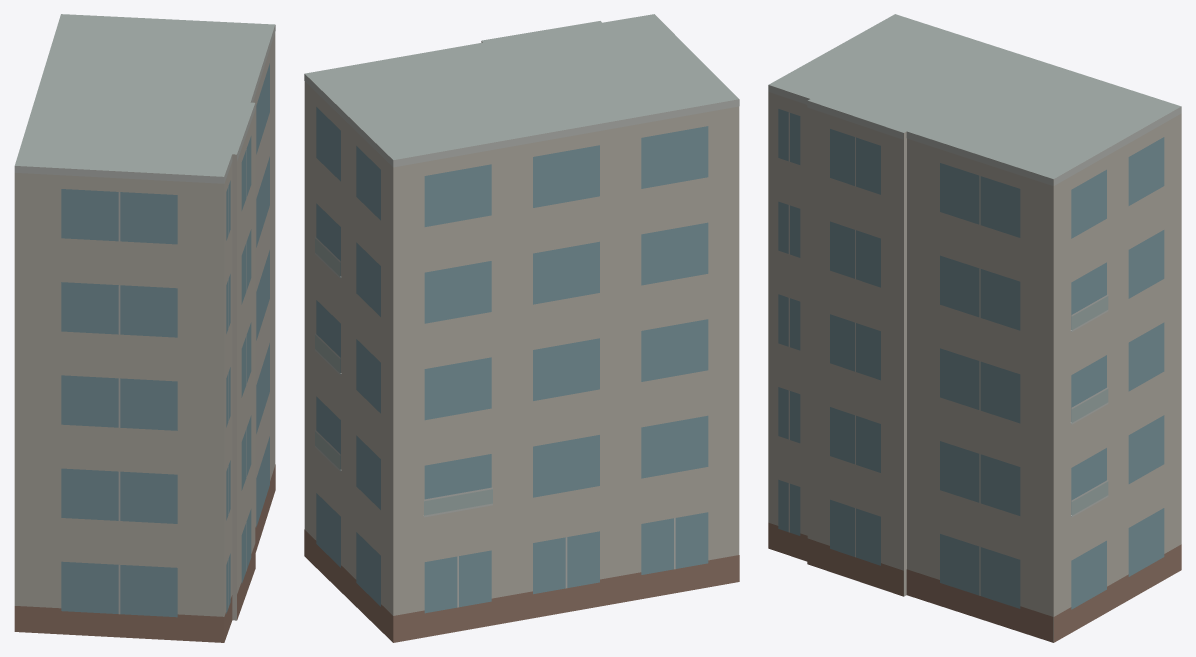
File: survey-upis-32732314.glb
3 views of the same model, side by side, from view 1: azimuth 30°, elevation 25°; view 2: azimuth 150°, elevation 25°; view 3: azimuth 270°, elevation 25° (orthographic). The views are drawn at different scales.
Parts seen in each view (by area): view 1: survey-upis-32732314.tmp; view 2: survey-upis-32732314.tmp; view 3: survey-upis-32732314.tmp.
Part boxes in pixels (<box>): survey-upis-32732314.tmp: <box>14,14,275,642</box>; survey-upis-32732314.tmp: <box>304,14,739,642</box>; survey-upis-32732314.tmp: <box>768,14,1181,642</box>.
Bounding box in the file's own units: 12.47 × 16.3 × 13.17.
